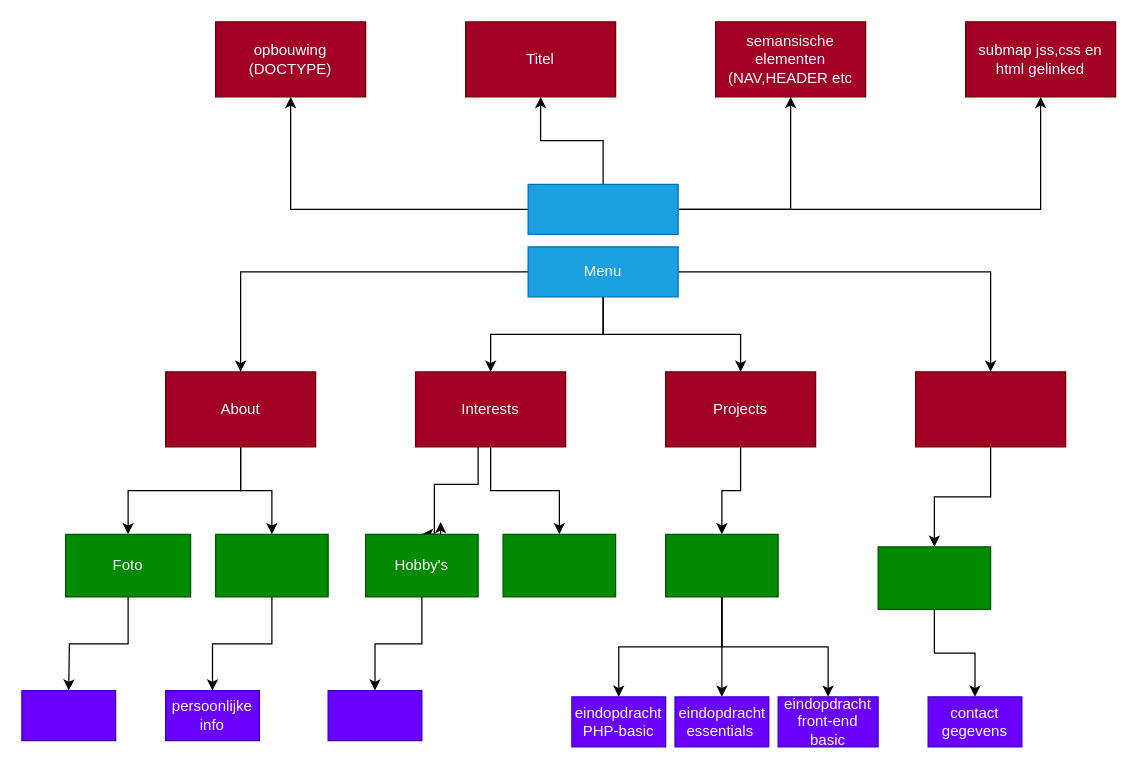
This 1138x770 diagram has some shape labels left out. The centre of each missing label's shape, as x and y in pixels:
Contact: (x=990, y=409)
Contact me here: (x=934, y=577)
Elke Pagina bevat: (x=602, y=208)
foto van me zelf: (x=68, y=715)
other interests: (x=559, y=565)
Over mij tekst: (x=271, y=565)
software-development projects: (x=721, y=565)
voetbal/motor game: (x=374, y=715)
